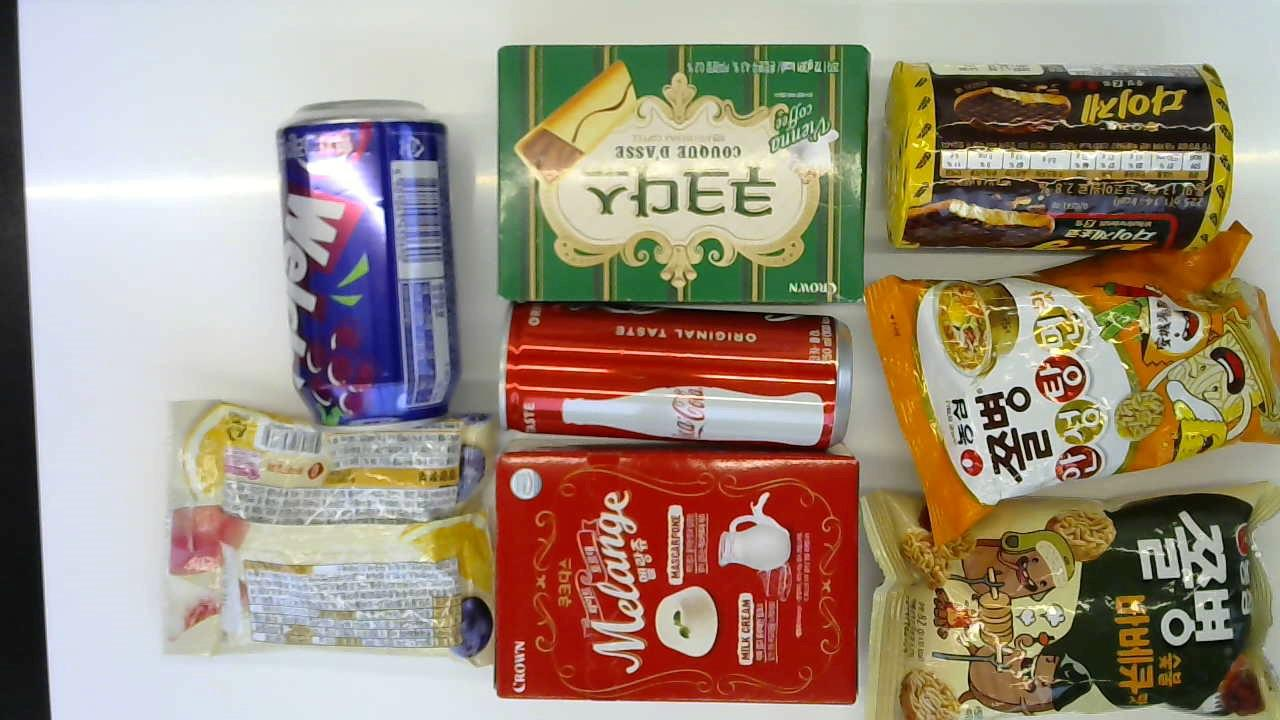coke: (496, 291, 843, 449)
couque_coffee: (495, 38, 867, 313)
couque_white: (488, 437, 861, 705)
diget_choco: (872, 55, 1234, 265)
gumi_gumi: (154, 393, 496, 665)
jjolbyung_noodle: (853, 216, 1273, 554)
jjolbyung_ori: (857, 470, 1276, 714)
welchs: (271, 95, 470, 425)
